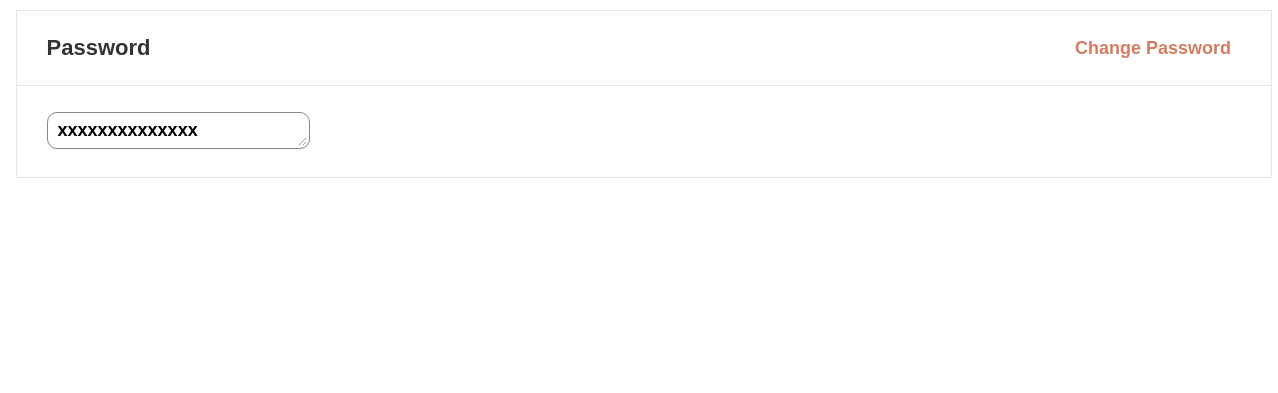
Test: new password › lists the requirements once it is left too short
This screenshot has width=1278, height=393.
Click the button "Change Password".
click(1152, 48)  # box [1072, 37, 1232, 59]
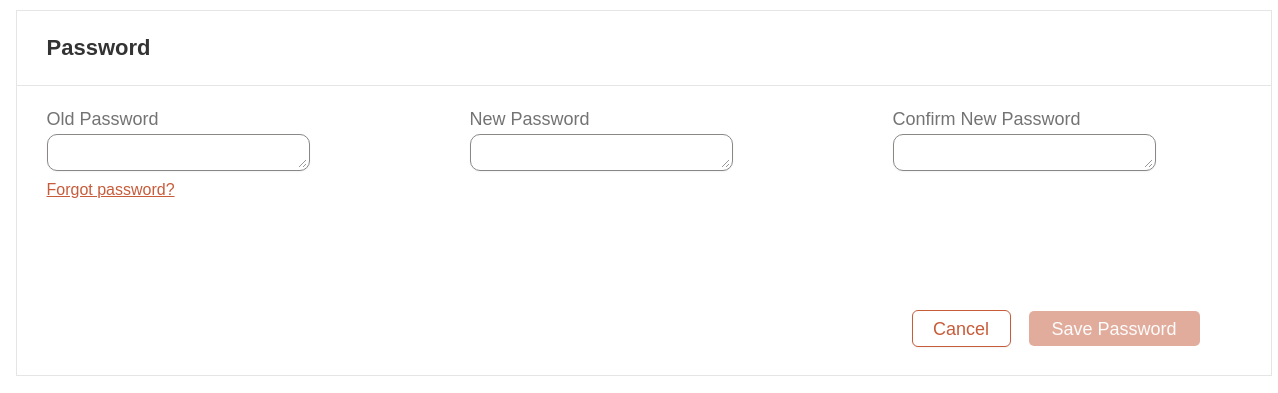
Type "short" into the password field with test id "newPassword".
click(601, 152); type("short")  # box [470, 134, 732, 171]
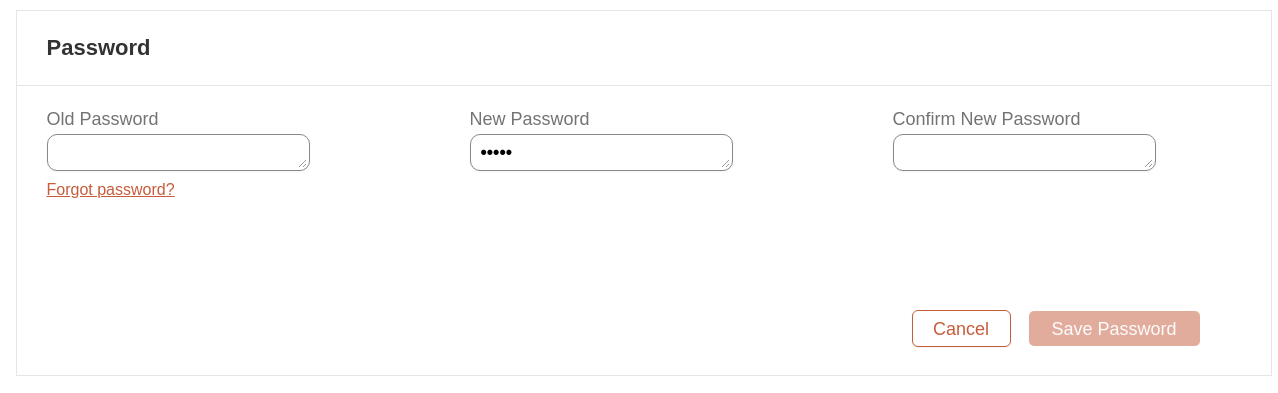
Check: the text "Minimum" is not shown
Leave the password field with test id "newPassword", box [470, 134, 732, 171]
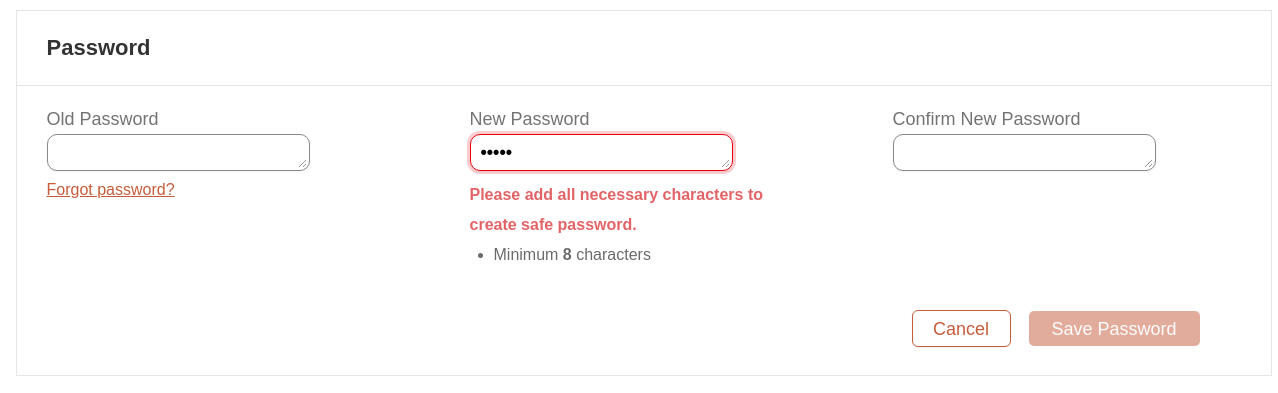
Check: the text "Please add all necessary characters to create safe password." is shown, box [470, 180, 812, 240]
Check: the list item "Minimum 8 characters" is shown, box [494, 246, 651, 263]
